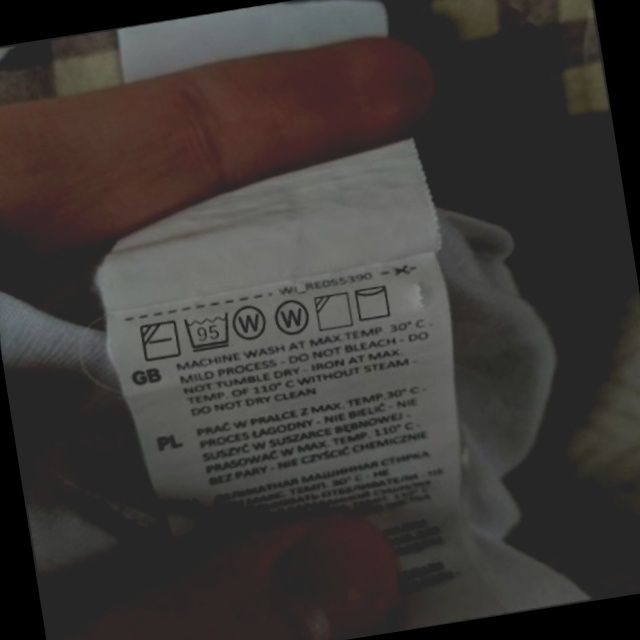95C: (178, 305, 238, 358)
dry_flat_in_shade: (134, 313, 186, 367)
line_dry: (348, 277, 399, 327)
shade_dry: (309, 286, 359, 337)
wet_clean: (227, 296, 275, 347), (268, 293, 316, 343)
